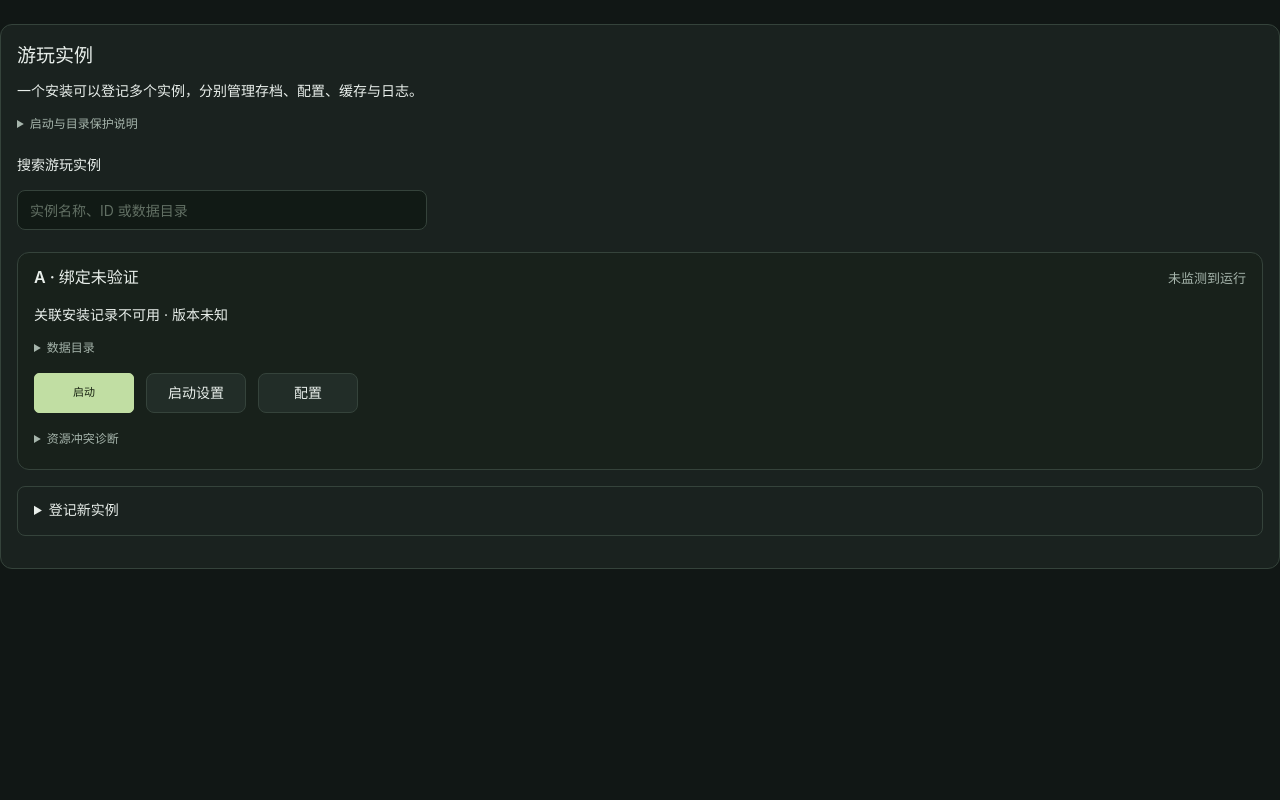
Test: does not launch when a saved profile fails current backend checks
Click the button with aria-label "启动 A" at (84, 393), box top-left (34, 373), bottom-right (134, 413)
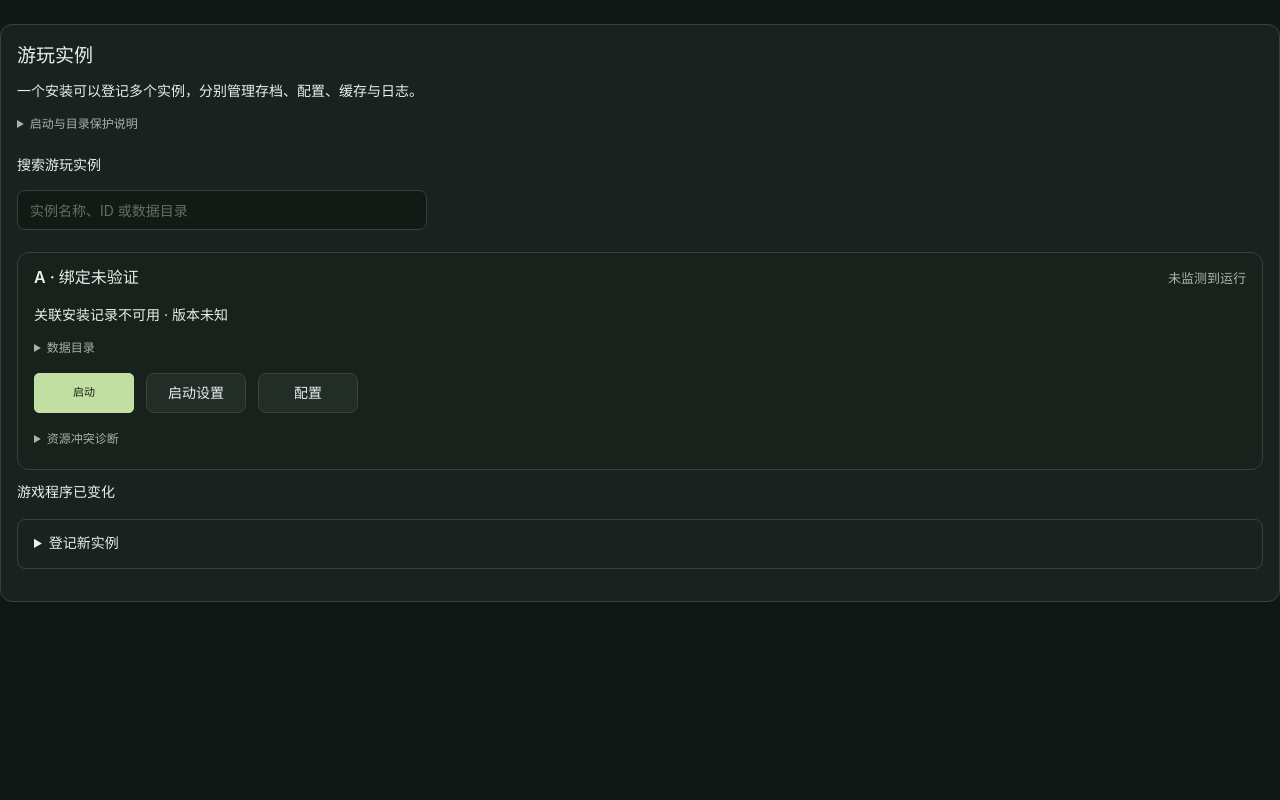
Check: the message reads "游戏程序已变化", box top-left (17, 482), bottom-right (115, 500)
